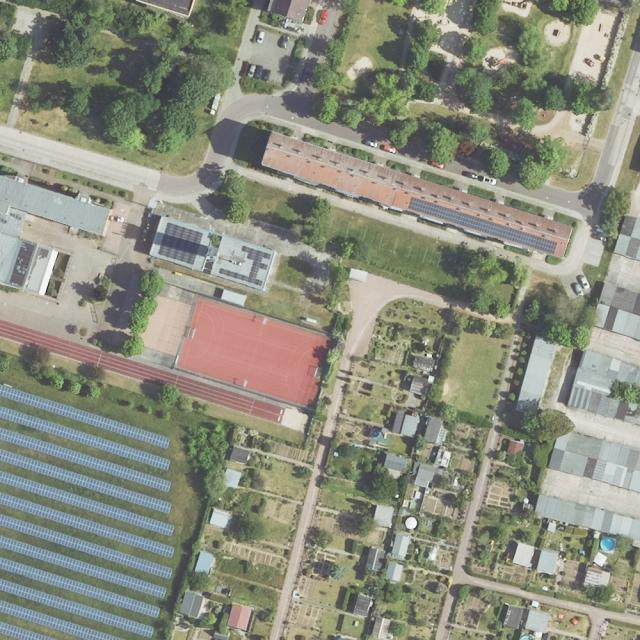PV: (0, 384, 176, 640), (407, 196, 556, 255), (219, 245, 270, 287), (158, 222, 203, 265)
